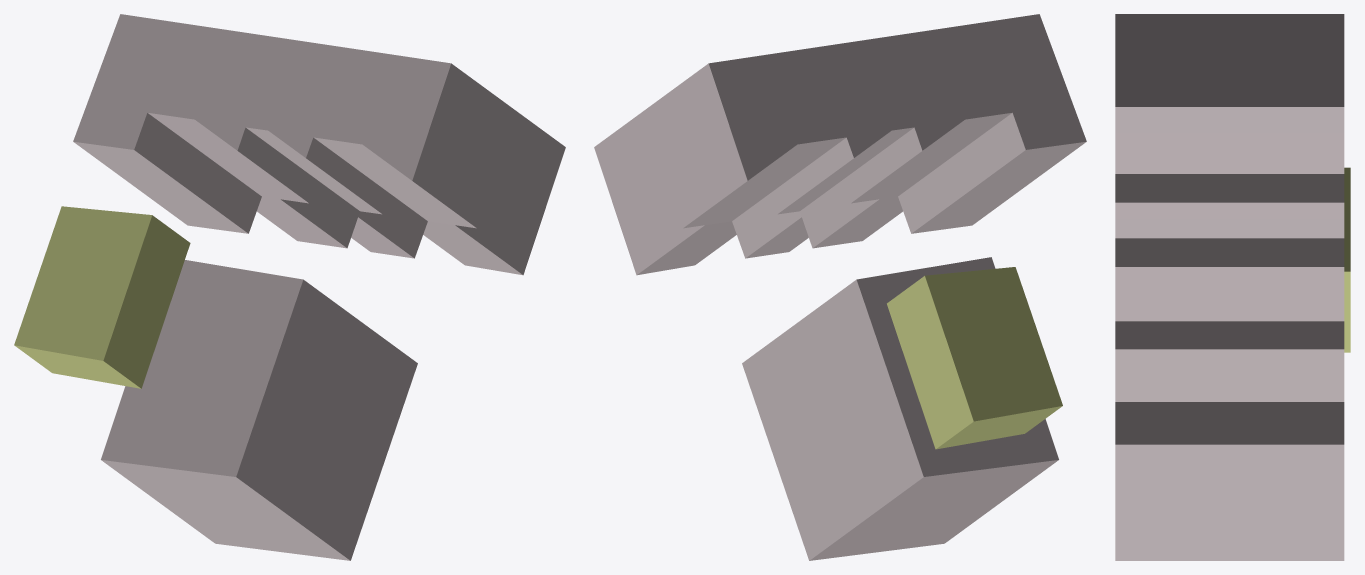
The picture shows the model from 3 angles, left to right: view 1: azimuth 30°, elevation 25°; view 2: azimuth 150°, elevation 25°; view 3: azimuth 270°, elevation 25°; orthographic projection.
Visible parts, largest first — view 1: 0_0_1_3_1_2_2_2_2; view 2: 0_0_1_3_1_2_2_2_2; view 3: 0_0_1_3_1_2_2_2_2.
Part boxes in pixels (box(x1,y1,x2,y2)): 0_0_1_3_1_2_2_2_2: box(14, 14, 565, 560); 0_0_1_3_1_2_2_2_2: box(594, 14, 1086, 560); 0_0_1_3_1_2_2_2_2: box(1115, 14, 1350, 560).
Bounding box in the file's own units: 39.36 × 42.58 × 18.5.
